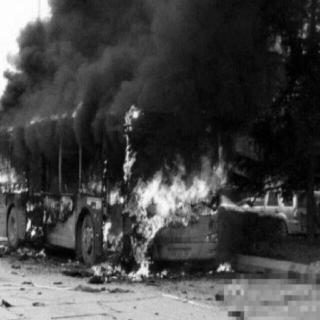Fire: (124, 105, 234, 283), (80, 172, 128, 284), (2, 106, 82, 130)
Smoke: (20, 3, 266, 101)
